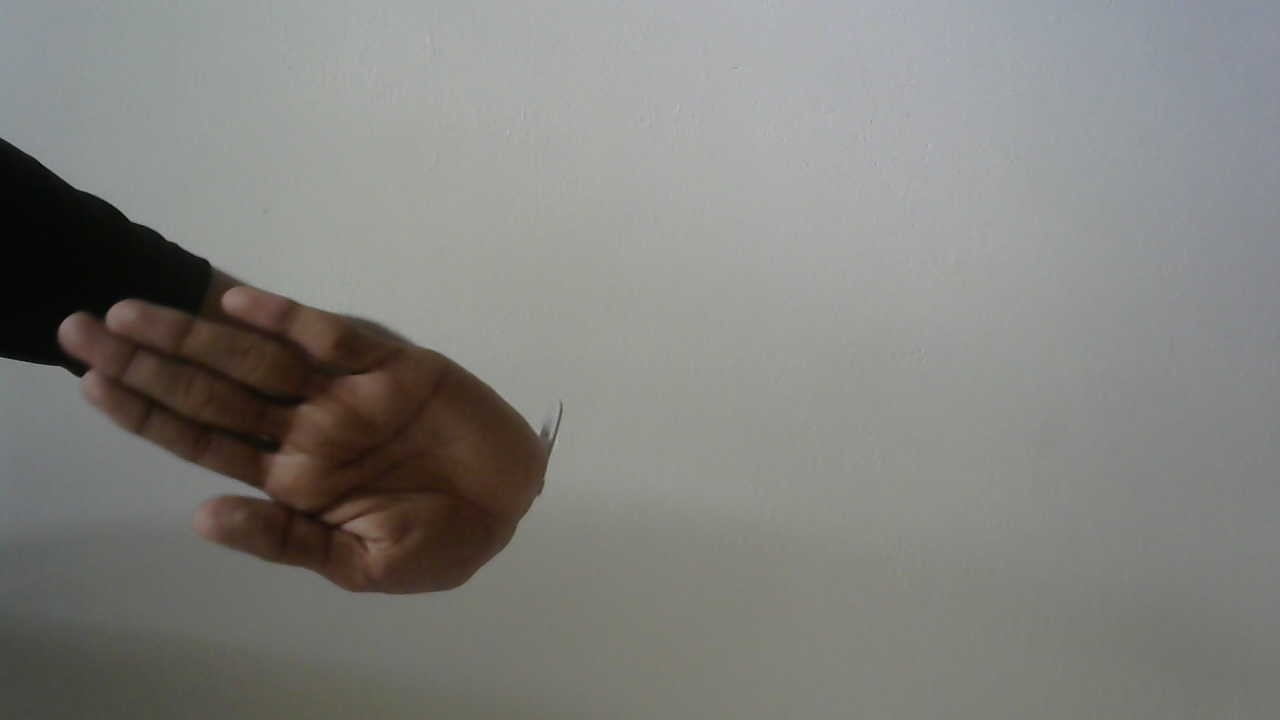hello: (52, 279, 562, 604)
